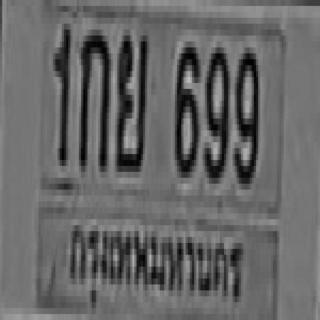A01: (77, 24, 109, 166)
A34: (113, 30, 147, 166)
N01: (53, 21, 68, 157)
N06: (173, 42, 198, 172)
N09: (233, 41, 257, 184), (203, 42, 228, 178)
P04: (64, 205, 248, 320)
